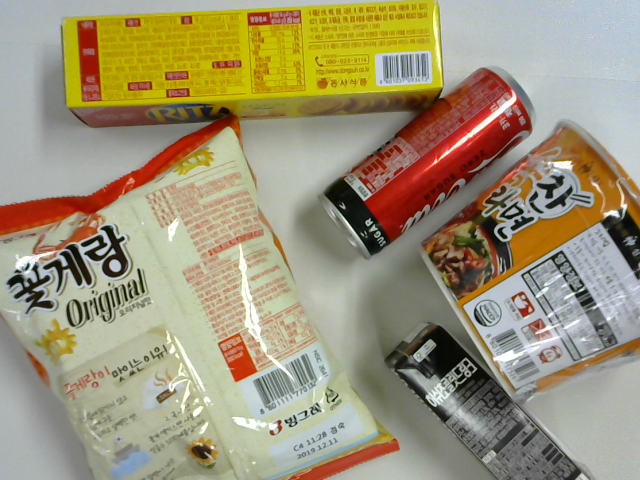Coca_Cola_Zero_Can_250ml: (317, 64, 535, 260)
Crabrang: (1, 116, 399, 480)
Hejangchan: (417, 120, 640, 400)
Hush_Choco_Drink: (381, 322, 601, 480)
Ritz_Remon_96g: (60, 1, 445, 128)
